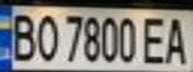0: (118, 12, 142, 64), (100, 12, 121, 64)
7: (60, 11, 84, 63)
8: (81, 11, 103, 63)
A: (160, 14, 193, 65)
B: (6, 9, 39, 62)
E: (139, 12, 172, 65)
O: (33, 10, 60, 63)
